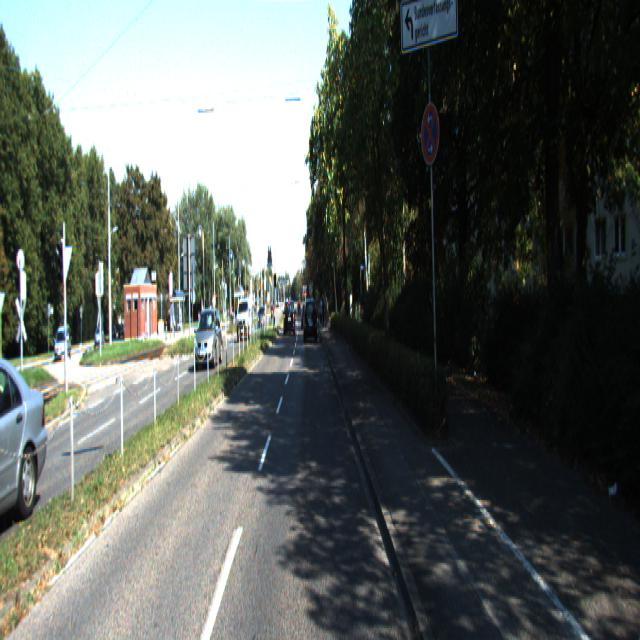Car: (0, 344, 52, 542), (194, 308, 222, 375), (304, 300, 318, 346), (237, 300, 253, 340), (284, 303, 296, 339)
